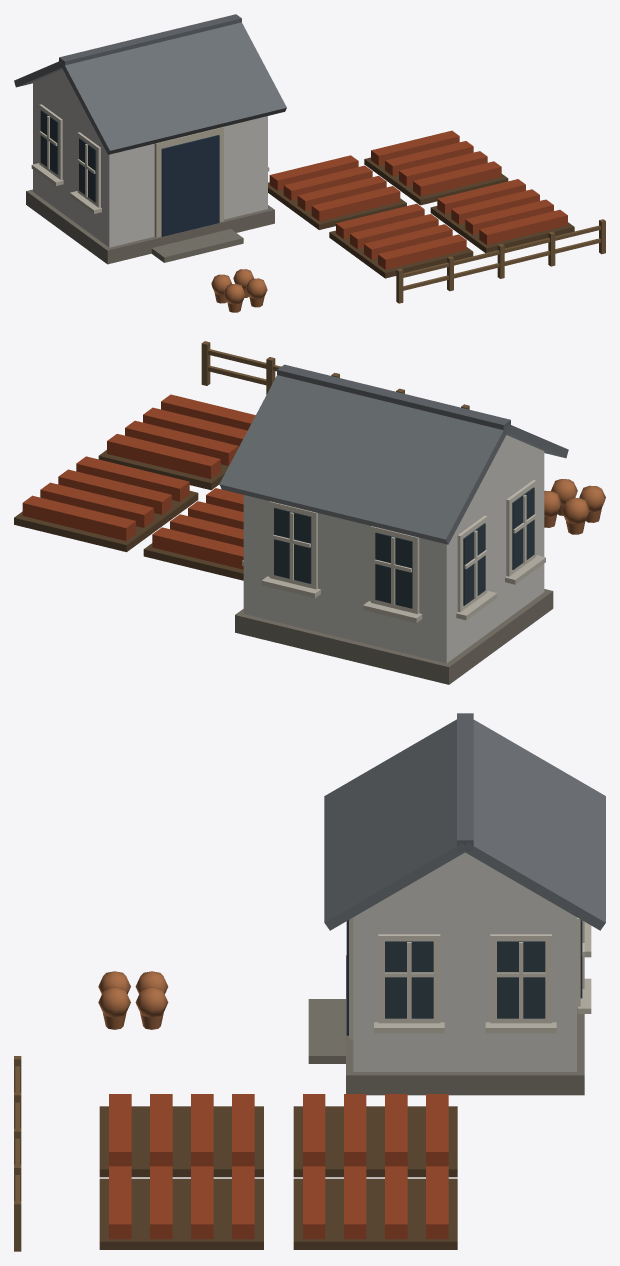
Rendered from procedural_spice_garden@6.glb.
3 views of the same model, one above another, from view 1: azimuth 30°, elevation 25°; view 2: azimuth 150°, elevation 25°; view 3: azimuth 270°, elevation 25° (orthographic). The views are drawn at different scales.
Visible parts, largest first — view 1: part_0; view 2: part_0; view 3: part_0.
Part boxes in pixels (x1,y1,x2,y2): part_0: (14, 14, 605, 312); part_0: (14, 341, 605, 684); part_0: (14, 713, 605, 1251).
Size of the model in its own units: 8.86 by 3.83 by 7.94.
